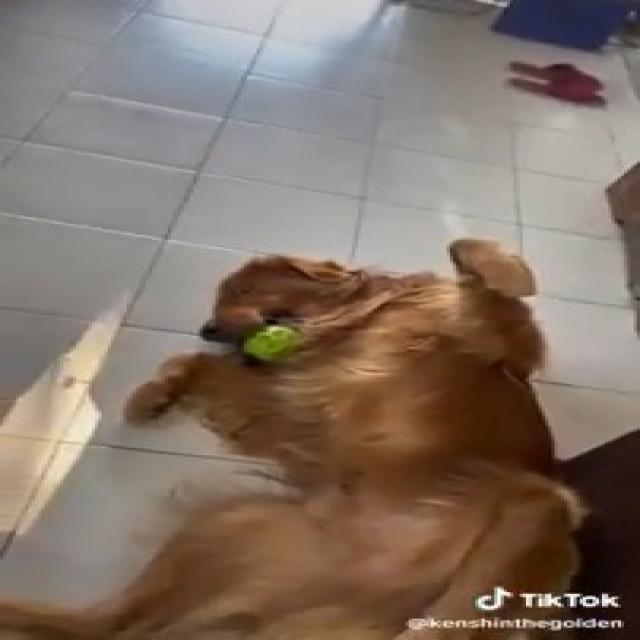dogs: (79, 237, 630, 640)
